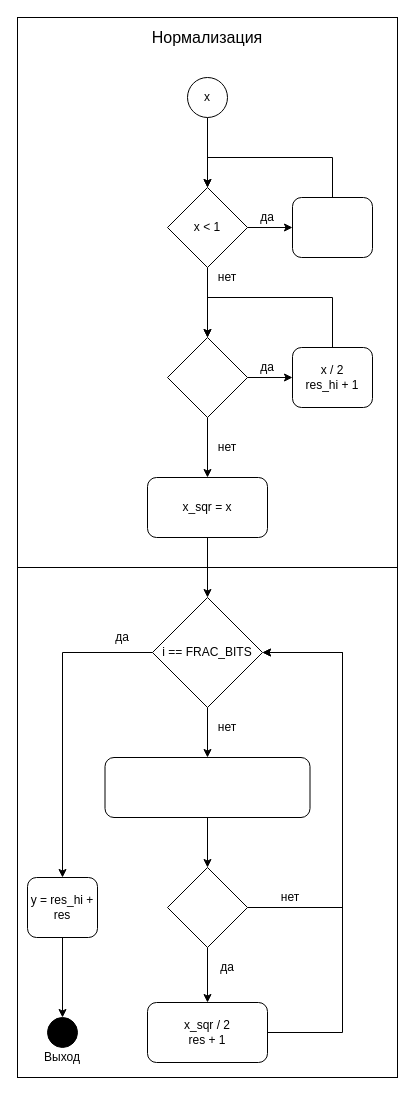
The diagram is 415 pixels wide and 1095 high, and some of its shapes have lost their labels. The box of each missing label's shape, as (x1, y1, x2, y2) in pixels:
res * 2 x_sqr = x_sqr * x_sqr: (104, 756, 310, 818)
x * 2 res_hi - 1: (292, 196, 372, 258)
x >= 2: (166, 336, 248, 418)
x_sqr > 2: (166, 866, 248, 948)
